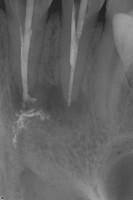Furcation Involvement: (11, 78, 90, 126)
